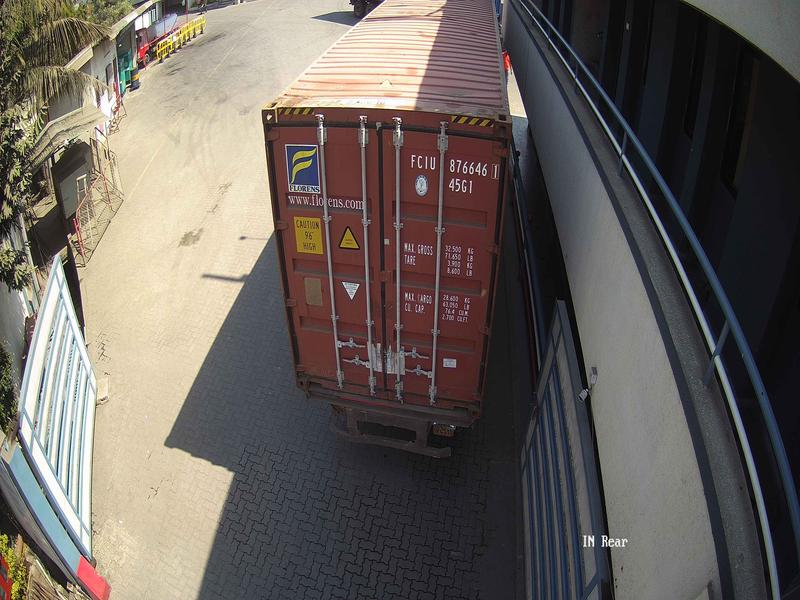container: (255, 97, 521, 429)
